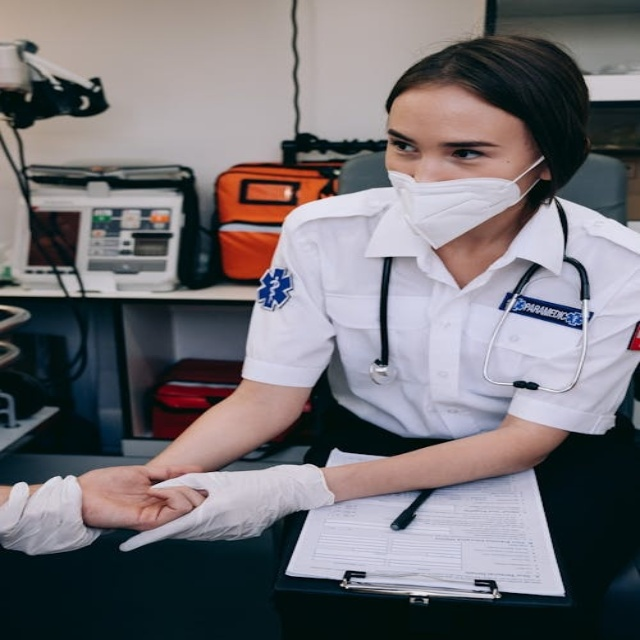Guantes: (120, 464, 335, 549), (0, 475, 102, 555)
Mascara: (388, 152, 547, 249)
Sin_gafas: (448, 148, 487, 160), (390, 139, 418, 153)
Sin_guantes: (64, 462, 211, 536)
